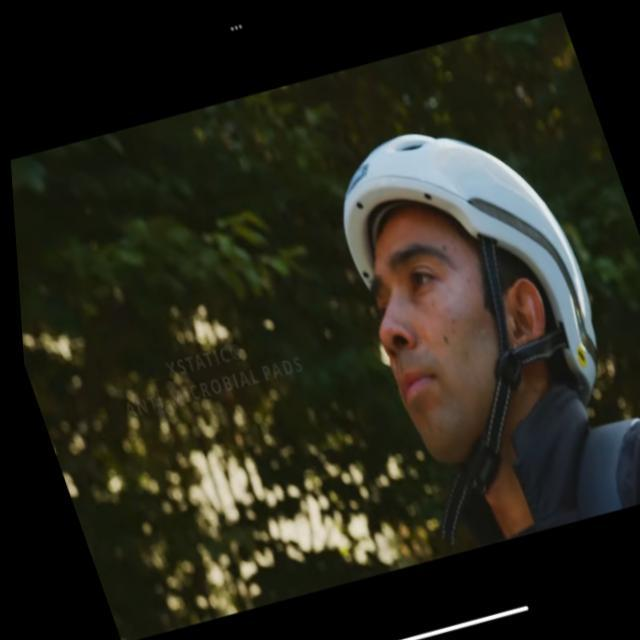Helmet: (330, 120, 621, 466)
